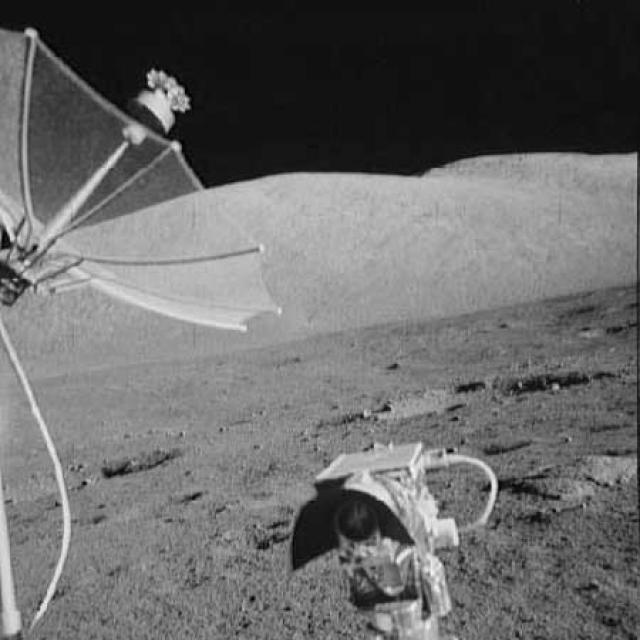artifact: (0, 19, 285, 344), (267, 431, 503, 639), (0, 342, 81, 638)
crater: (324, 370, 612, 415), (0, 446, 174, 494), (573, 316, 639, 344)
rock: (524, 449, 637, 526)
